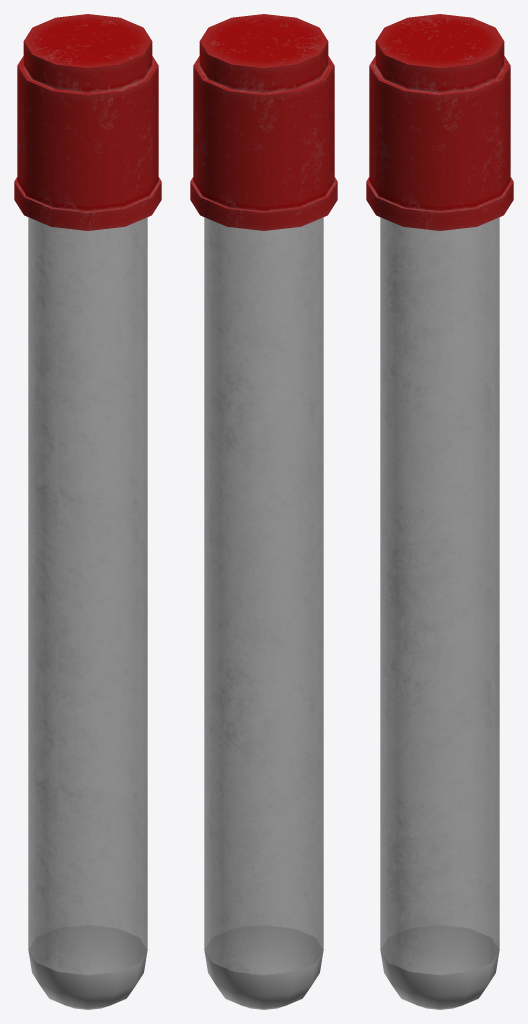
Rendered from 真空采血管.glb.
3 renders of one model, left to right at view 1: azimuth 30°, elevation 25°; view 2: azimuth 150°, elevation 25°; view 3: azimuth 270°, elevation 25°, orthographic.
Visible parts, largest first — view 1: Cylinder001, Cylinder002; view 2: Cylinder001, Cylinder002; view 3: Cylinder001, Cylinder002.
Boxes of the visible parts, x1=… form: Cylinder001: x1=28, y1=217, x2=147, y2=1009; Cylinder002: x1=14, y1=14, x2=161, y2=230; Cylinder001: x1=204, y1=217, x2=323, y2=1009; Cylinder002: x1=190, y1=14, x2=337, y2=230; Cylinder001: x1=380, y1=217, x2=499, y2=1009; Cylinder002: x1=366, y1=14, x2=513, y2=230.
Size of the model in its own units: 0.057 by 0.4092 by 0.057.
1 material, 1 textured.
